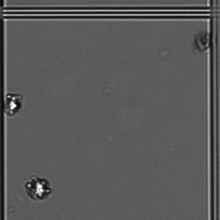Dead Cell: (191, 30, 213, 52)
Living Cell: (21, 173, 57, 209), (1, 92, 29, 120)
